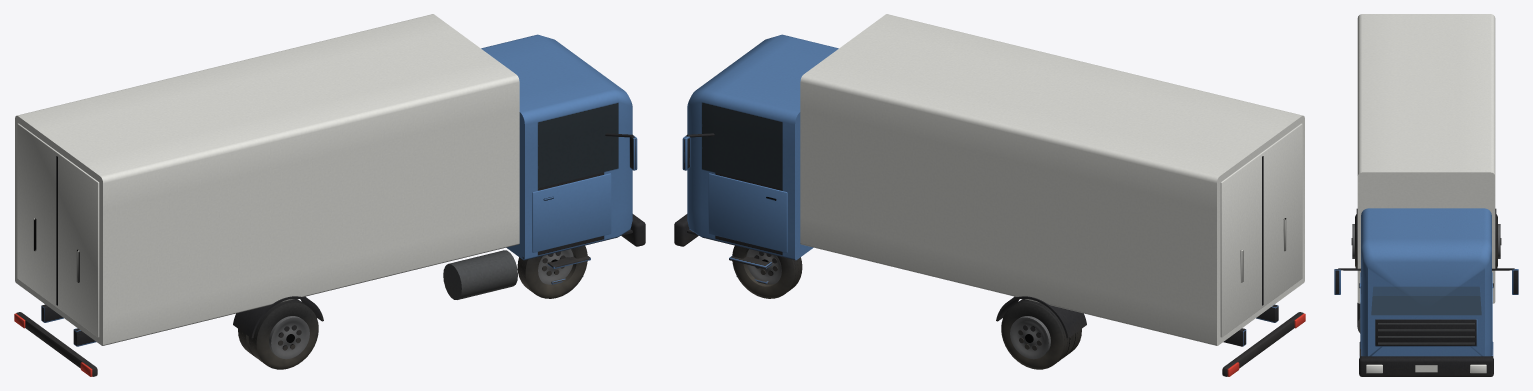
The model's file is caminhao-bau.glb.
3 views of the same model, side by side, from view 1: azimuth 30°, elevation 25°; view 2: azimuth 150°, elevation 25°; view 3: azimuth 270°, elevation 25° (orthographic). The views are drawn at different scales.
Visible parts, largest first — view 1: body, trunk, door_fr, wheel_rr_tire, wheel_fr_tire, wheel_rr_rim, bumper_rear, wheel_fr_rim; view 2: body, trunk, door_fl, wheel_rl_tire, wheel_fl_tire, wheel_rl_rim, bumper_rear, wheel_fl_rim; view 3: body, glass_windshield, bumper_front, headlight_left, headlight_right.
Boxes of the visible parts, bbox=[...] form: body: bbox=[15, 14, 637, 346]; trunk: bbox=[17, 123, 99, 337]; door_fr: bbox=[532, 173, 611, 252]; wheel_rr_tire: bbox=[238, 299, 318, 369]; wheel_fr_tire: bbox=[517, 245, 587, 298]; wheel_rr_rim: bbox=[269, 316, 309, 359]; bumper_rear: bbox=[16, 312, 97, 376]; wheel_fr_rim: bbox=[538, 249, 576, 286]; body: bbox=[682, 14, 1304, 346]; trunk: bbox=[1220, 123, 1302, 337]; door_fl: bbox=[708, 173, 787, 252]; wheel_rl_tire: bbox=[1001, 299, 1081, 369]; wheel_fl_tire: bbox=[732, 245, 802, 298]; wheel_rl_rim: bbox=[1010, 316, 1050, 359]; bumper_rear: bbox=[1222, 312, 1303, 376]; wheel_fl_rim: bbox=[743, 249, 781, 286]; body: bbox=[1334, 14, 1518, 372]; glass_windshield: bbox=[1371, 287, 1481, 315]; bumper_front: bbox=[1359, 356, 1493, 376]; headlight_left: bbox=[1470, 364, 1486, 373]; headlight_right: bbox=[1366, 364, 1382, 373].
Size of what is drawn, in the model's own units: 8.88 by 3.6 by 3.29.
Materials: 6 (5 with a texture image).
